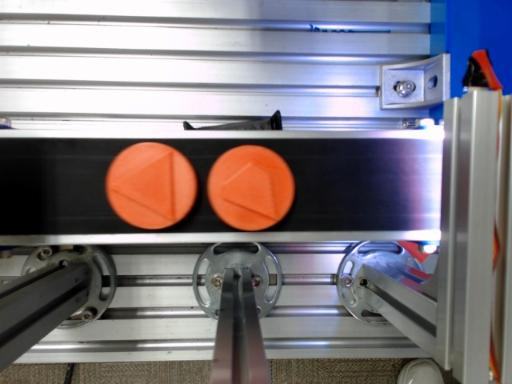Not_Square: (107, 151, 175, 220), (223, 161, 277, 221)
Orange_Waper: (106, 142, 196, 228), (207, 145, 294, 230)
